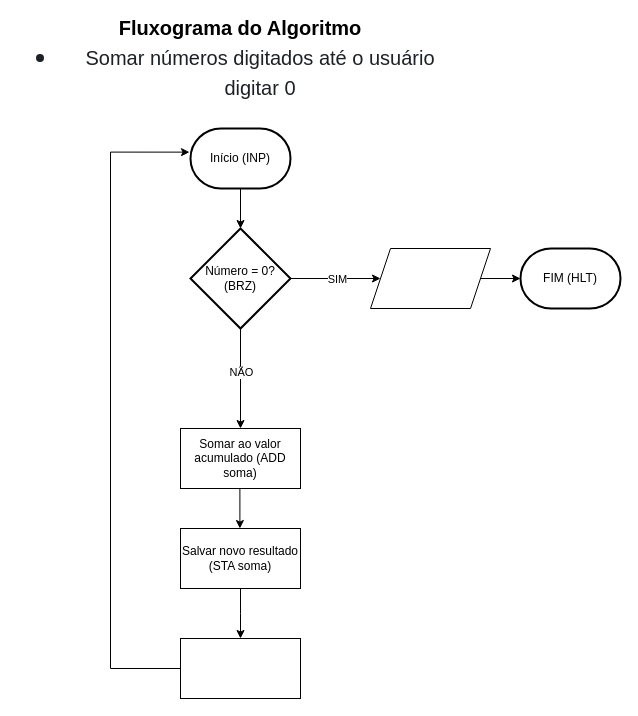
Some shapes in this 638 by 716 pixel diagram are drawn without their labels. The shapes that lost their labels are listed below. From the top down, each one's box as (x1, y1, x2, y2) in pixels, then its label:
(370, 248, 490, 308): Carregar e Exibir o resultado (LDA / OUT)
(180, 638, 300, 698): Retornar ao início (BRA loop)
